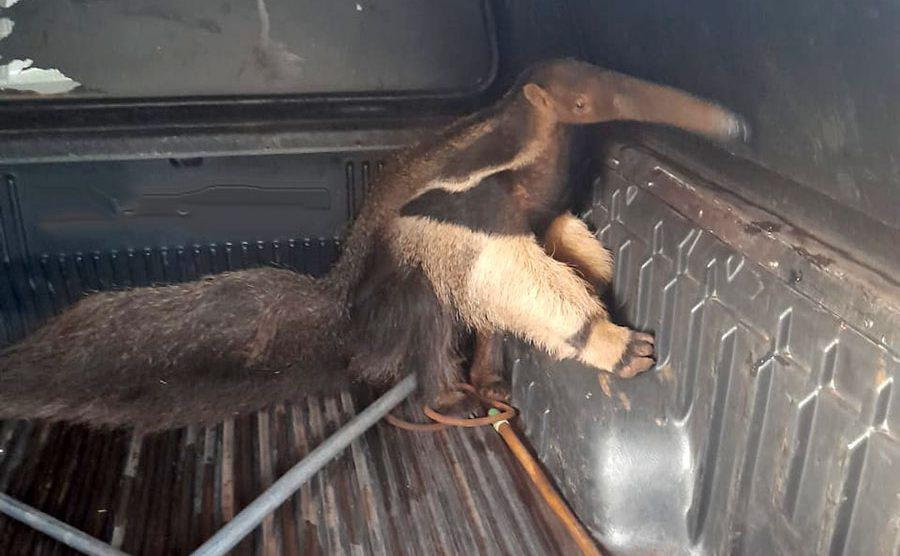TamanduaBandeira: (20, 51, 758, 427)
